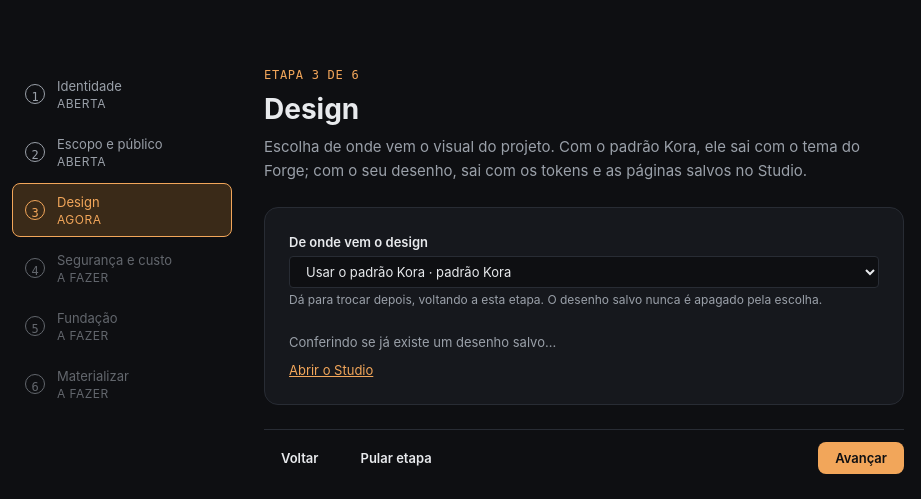
etapa Design › trocar só a escolha e voltar não grava a escolha
(page scrolled)
Select "Usar o meu desenho do Studio" in the dropdown labelled "De onde vem o design" at (584, 272), box [289,256,879,288]
(page scrolled)
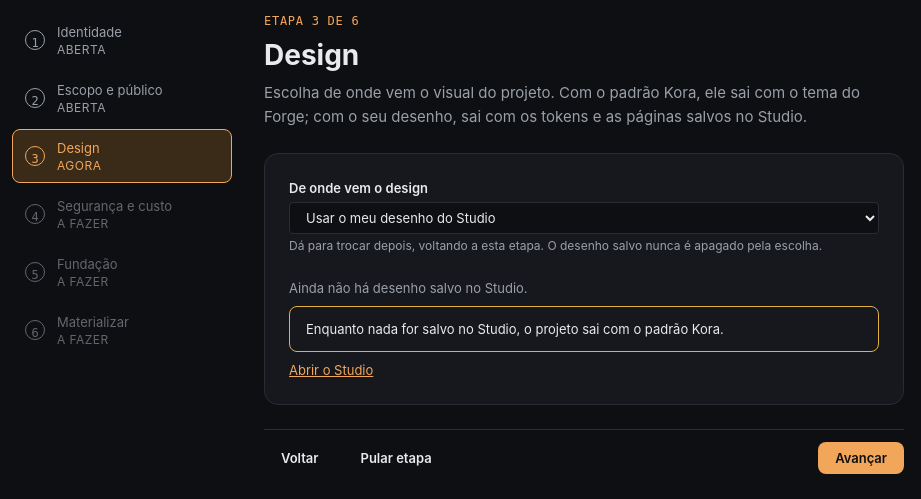
Click the button "Voltar" at (300, 458), box [264,442,336,474]
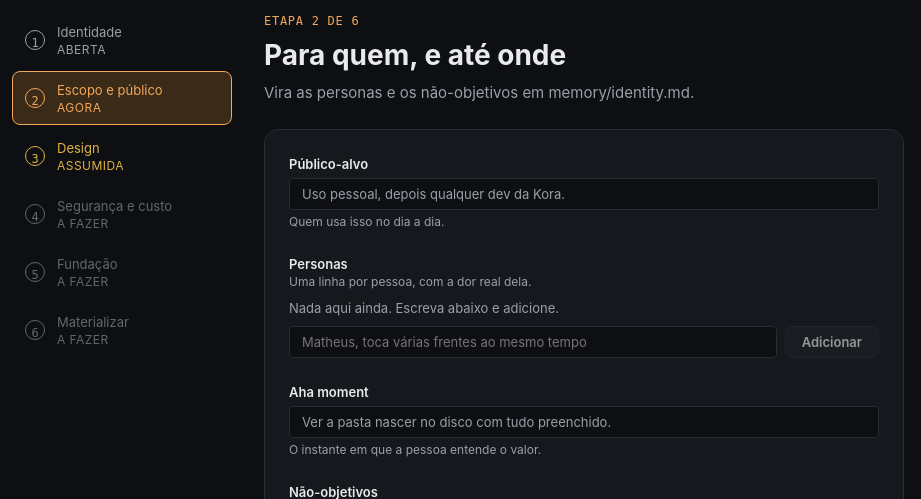
expect the heading "Para quem, e até onde" is shown: met, box [264,38,566,72]
